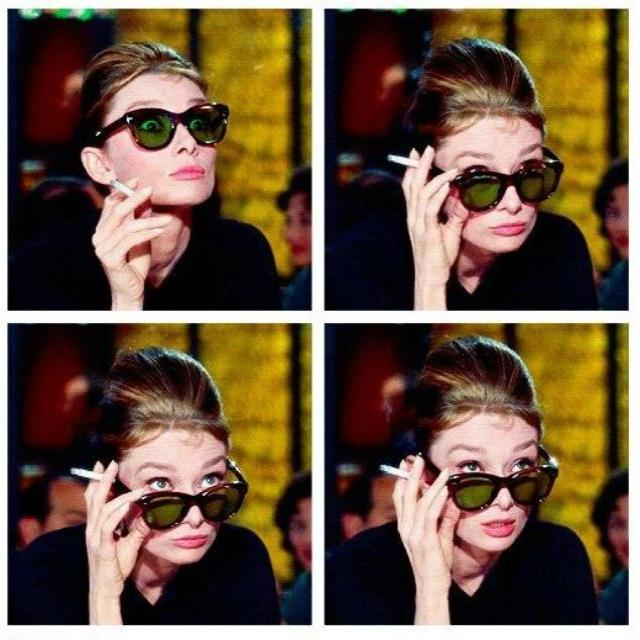glasses: (118, 456, 252, 530), (432, 144, 566, 212), (425, 446, 563, 510), (88, 103, 230, 151)
